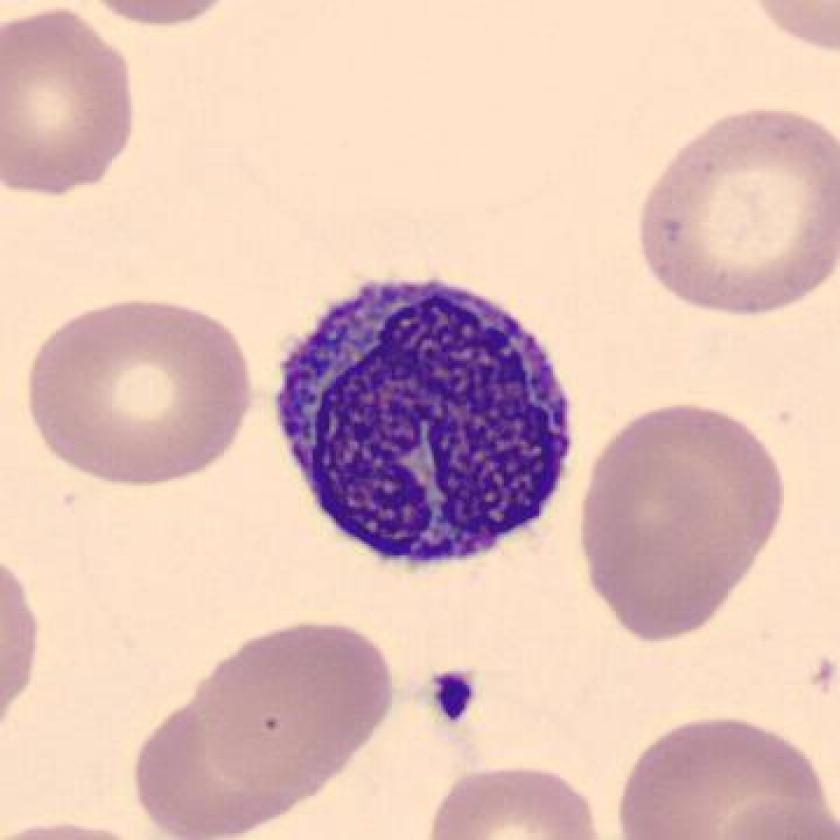monocyte: (265, 269, 594, 589)
